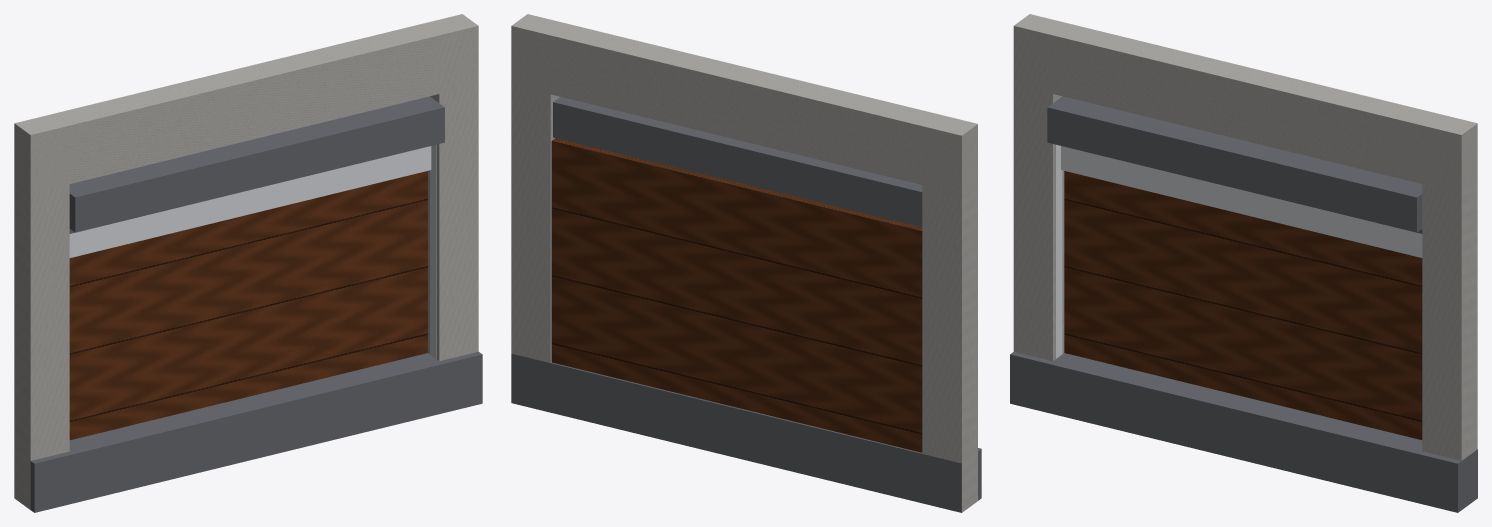
Rendered from shopfront_shutter_bay_shutter_up.glb.
The picture shows the model from 3 angles, left to right: view 1: azimuth 30°, elevation 25°; view 2: azimuth 150°, elevation 25°; view 3: azimuth 330°, elevation 25°; orthographic projection.
Parts seen in each view (by area): view 1: shopfront-shutter-bay-open-darkwood, shopfront-shutter-bay-open-concrete, shopfront-shutter-bay-open-charcoal, shutter, shopfront-shutter-bay-open-steel; view 2: shopfront-shutter-bay-open-darkwood, shopfront-shutter-bay-open-concrete, shopfront-shutter-bay-open-charcoal; view 3: shopfront-shutter-bay-open-darkwood, shopfront-shutter-bay-open-concrete, shopfront-shutter-bay-open-charcoal, shutter, shopfront-shutter-bay-open-steel.
Part boxes in pixels (x1,y1,x2,y2): shopfront-shutter-bay-open-darkwood: [69, 171, 427, 440]; shopfront-shutter-bay-open-concrete: [14, 14, 478, 509]; shopfront-shutter-bay-open-charcoal: [30, 96, 482, 512]; shutter: [69, 146, 431, 257]; shopfront-shutter-bay-open-steel: [430, 144, 436, 358]; shopfront-shutter-bay-open-darkwood: [551, 138, 922, 452]; shopfront-shutter-bay-open-concrete: [511, 14, 977, 512]; shopfront-shutter-bay-open-charcoal: [511, 97, 981, 512]; shopfront-shutter-bay-open-darkwood: [1064, 171, 1422, 439]; shopfront-shutter-bay-open-concrete: [1013, 14, 1477, 460]; shopfront-shutter-bay-open-charcoal: [1010, 96, 1477, 512]; shutter: [1061, 146, 1422, 257]; shopfront-shutter-bay-open-steel: [1055, 144, 1062, 358].
Size of the model in its own units: 4 by 3.2 by 0.3359.
4 materials, 2 textured.
